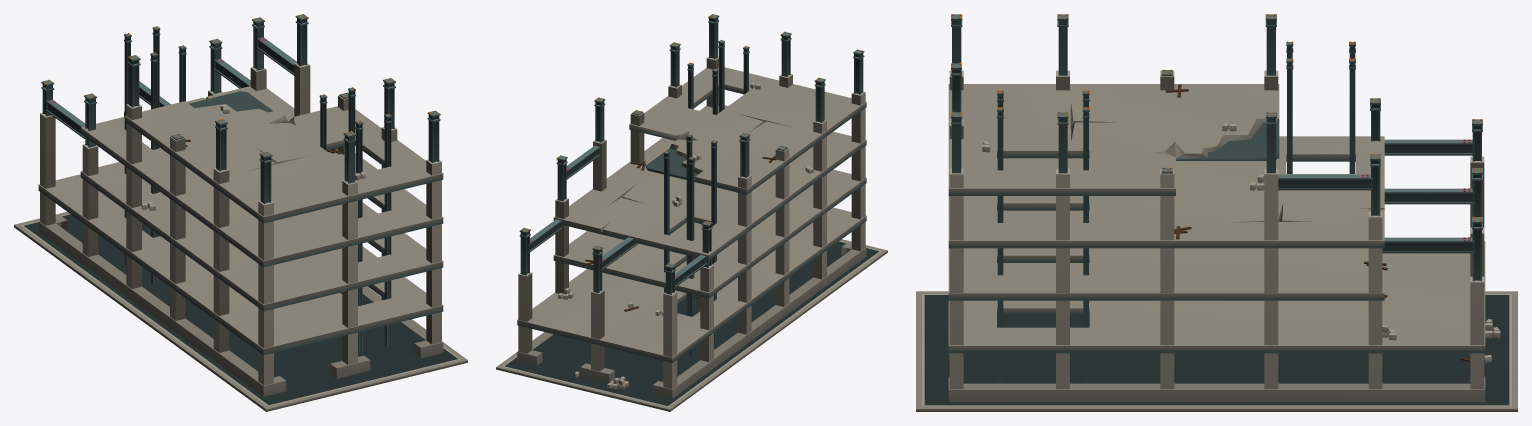
The model's file is Building_Construction_2A.fbx.
The picture shows the model from 3 angles, left to right: view 1: azimuth 30°, elevation 25°; view 2: azimuth 150°, elevation 25°; view 3: azimuth 270°, elevation 25°; orthographic projection. The views are drawn at different scales.
Visible parts, largest first — view 1: Building_Construction_2A; view 2: Building_Construction_2A; view 3: Building_Construction_2A.
Part boxes in pixels (<box>): Building_Construction_2A: <box>14,14,467,411</box>; Building_Construction_2A: <box>496,14,887,411</box>; Building_Construction_2A: <box>916,14,1517,411</box>.
Size of the model in its own units: 2400 by 2751 by 5200.
